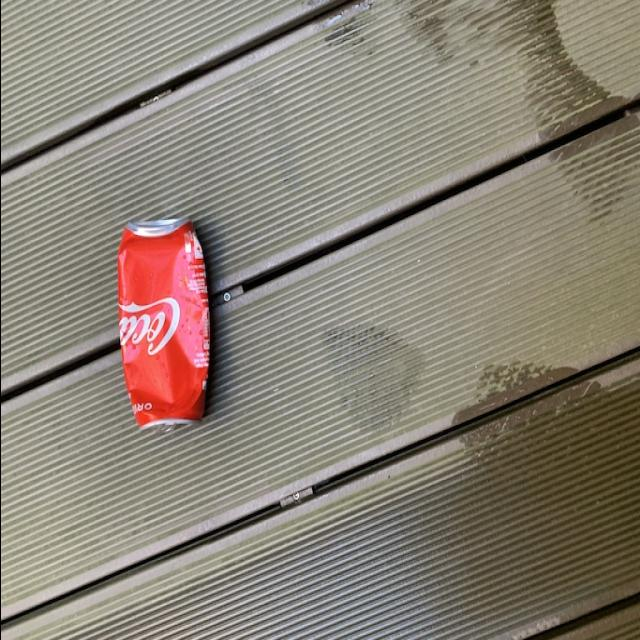litter: (116, 208, 216, 444)
